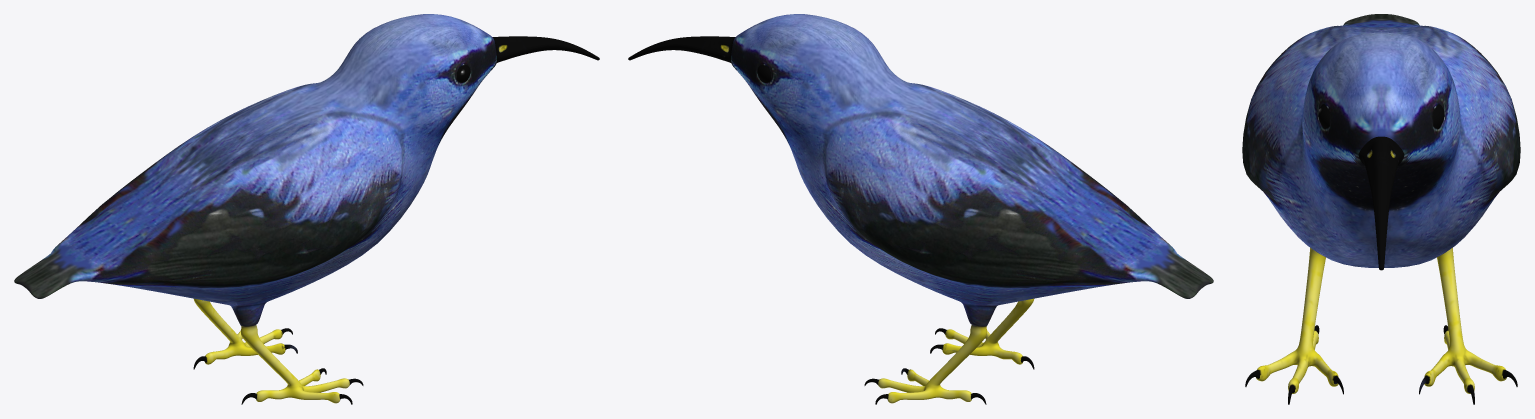
The model's file is AnimalBird.fbx.
The picture shows the model from 3 angles, left to right: view 1: azimuth 30°, elevation 25°; view 2: azimuth 150°, elevation 25°; view 3: azimuth 270°, elevation 25°; orthographic projection. The views are drawn at different scales.
Parts seen in each view (by area): view 1: 12240_Bird_v1_L2; view 2: 12240_Bird_v1_L2; view 3: 12240_Bird_v1_L2.
Part boxes in pixels (box(x1,y1,x2,y2)): 12240_Bird_v1_L2: box(14, 14, 599, 404); 12240_Bird_v1_L2: box(628, 14, 1213, 404); 12240_Bird_v1_L2: box(1242, 14, 1520, 404).
Size of the model in its own units: 1160 by 613 by 370.
1 material, 1 textured.
